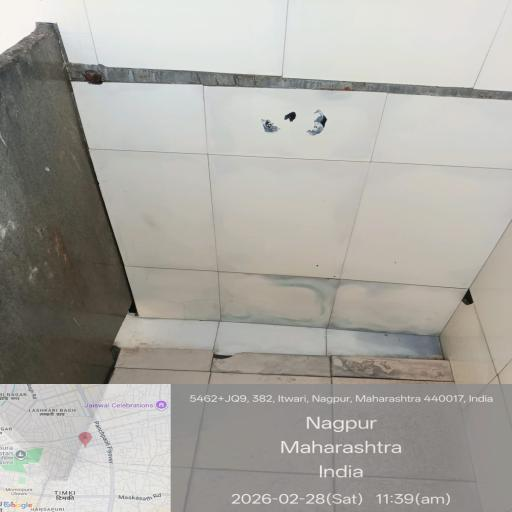clean_floor: (44, 49, 443, 210)
partial_dirty_floor: (119, 275, 512, 507)
